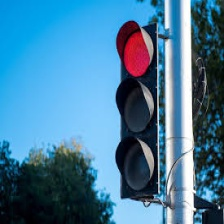semaforo: (114, 20, 162, 199)
